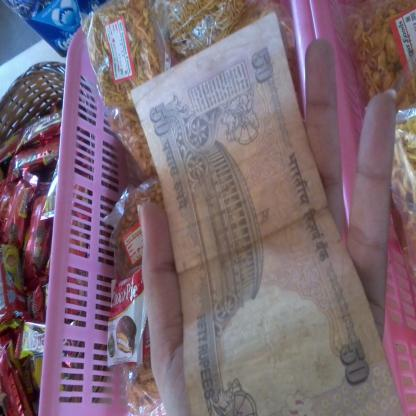Old50Back: (130, 12, 405, 416)
